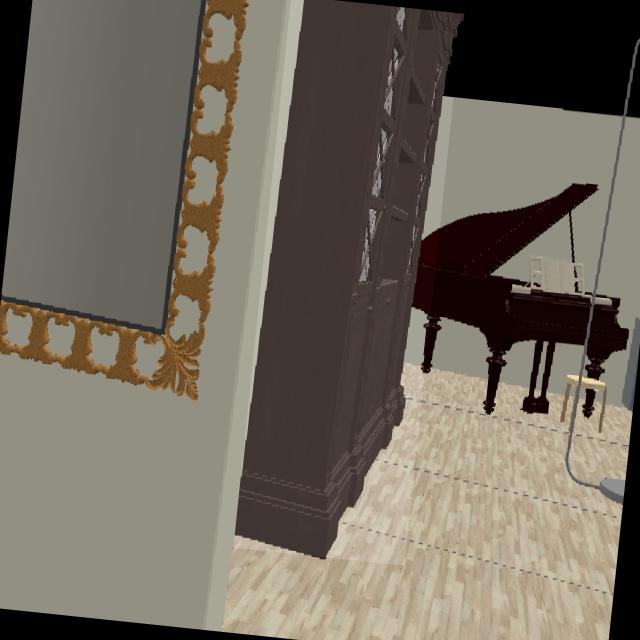bookshelf: (235, 0, 461, 557)
